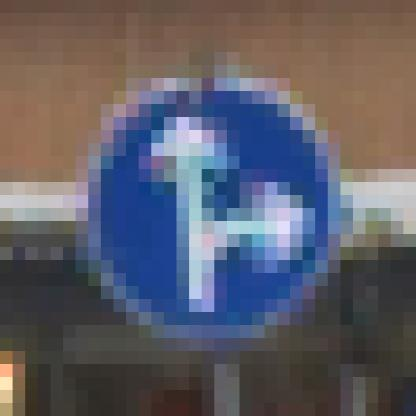Straight or Right: (77, 66, 354, 352)
